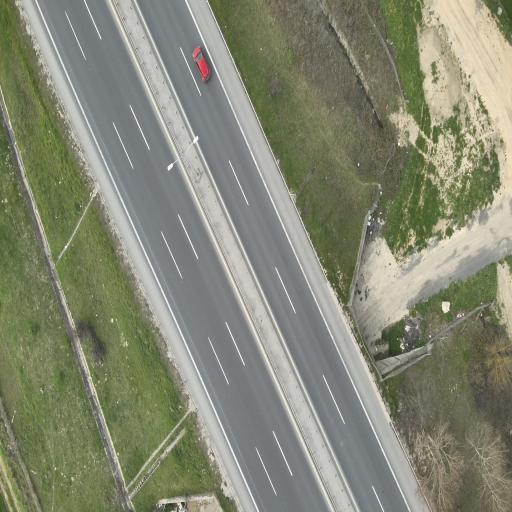car: (193, 47, 210, 82)
